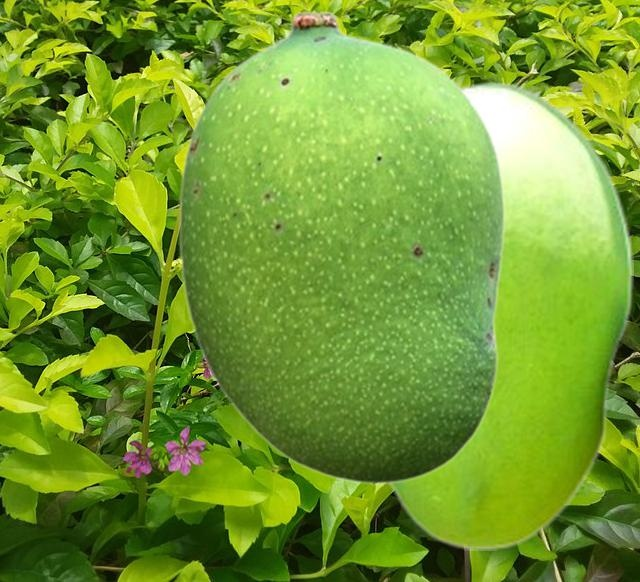green_mango: (177, 9, 504, 484), (386, 80, 632, 549)
